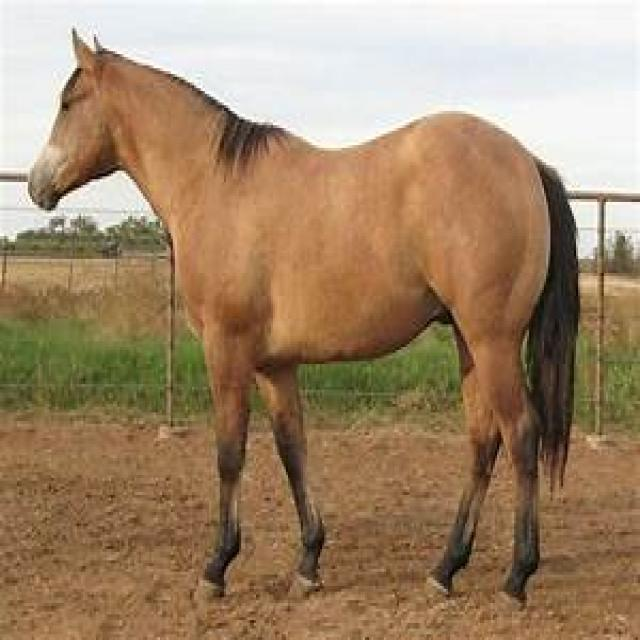animal: (24, 34, 582, 595)
